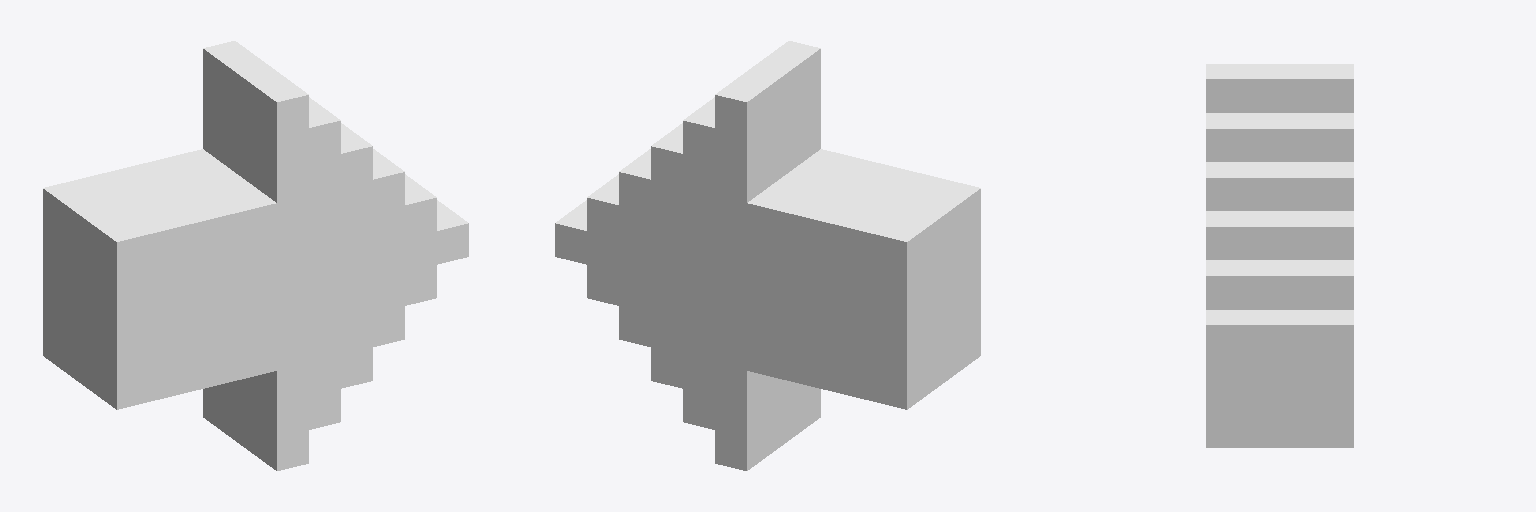
The model's file is RIGHT_ARROW.obj.
3 renders of one model, left to right at view 1: azimuth 30°, elevation 25°; view 2: azimuth 150°, elevation 25°; view 3: azimuth 270°, elevation 25°, orthographic.
Bounding box in the file's own units: 1.1 × 1.1 × 0.4.